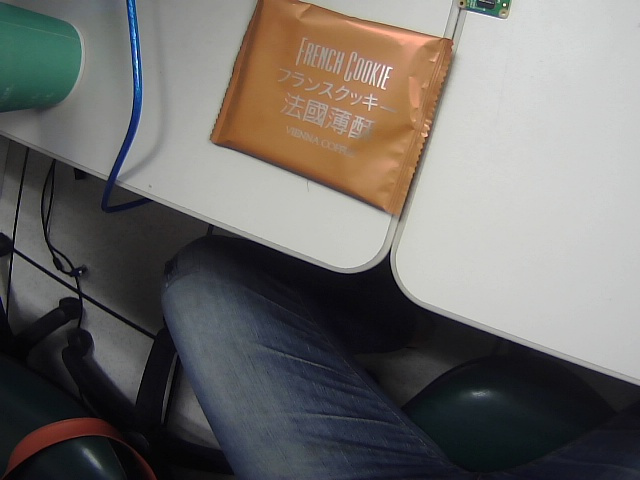frenchcookie: (205, 1, 449, 231)
